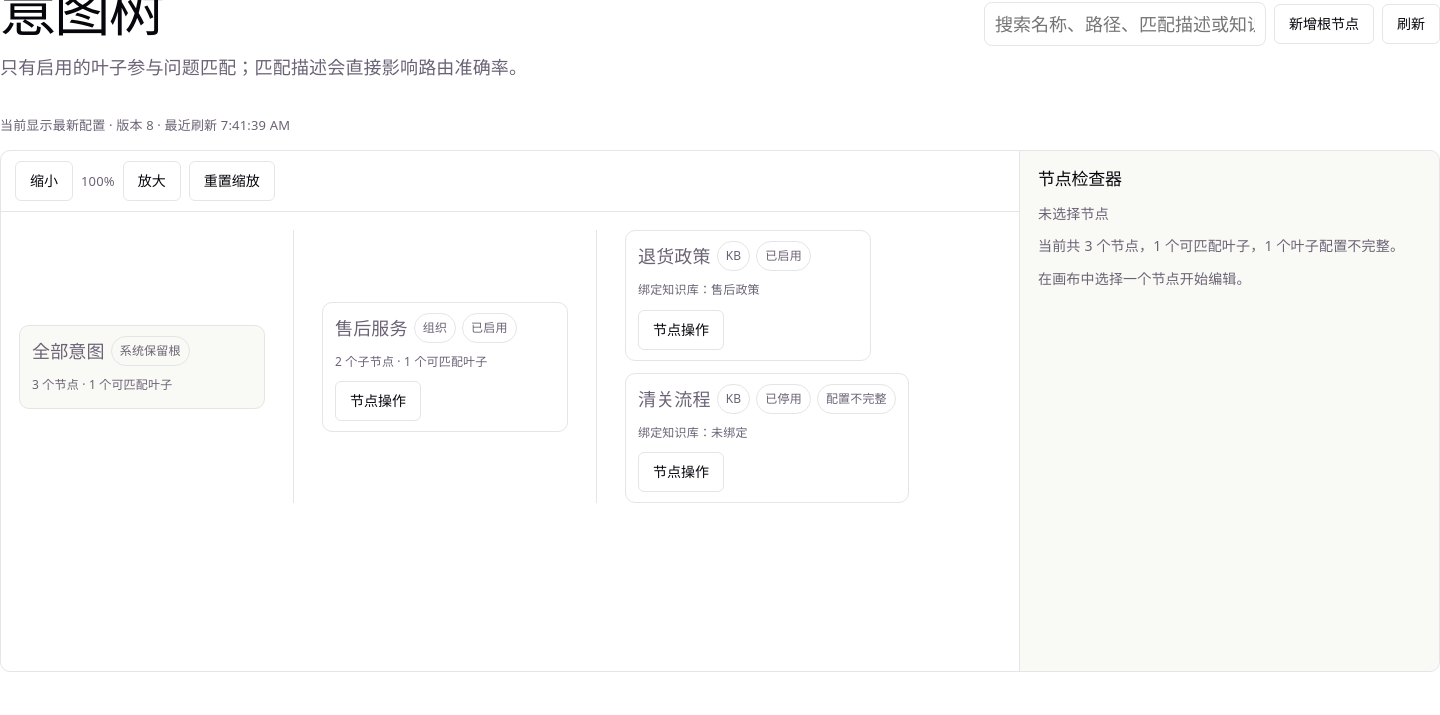
意图树 C — 画布与检查器 › 加载完整快照后按角色与状态标签展示节点，选中后检查器显示完整路径
Expected: the list item with aria-label "售后服务 · 组织 · 已启用" is shown, [322,230,909,503]
Expected: the list item with aria-label "清关流程 · KB · 已停用" is shown, [625,373,909,503]
Click the list item with aria-label "退货政策 · KB · 已启用": (767, 296) [625,230,909,361]
(page scrolled)
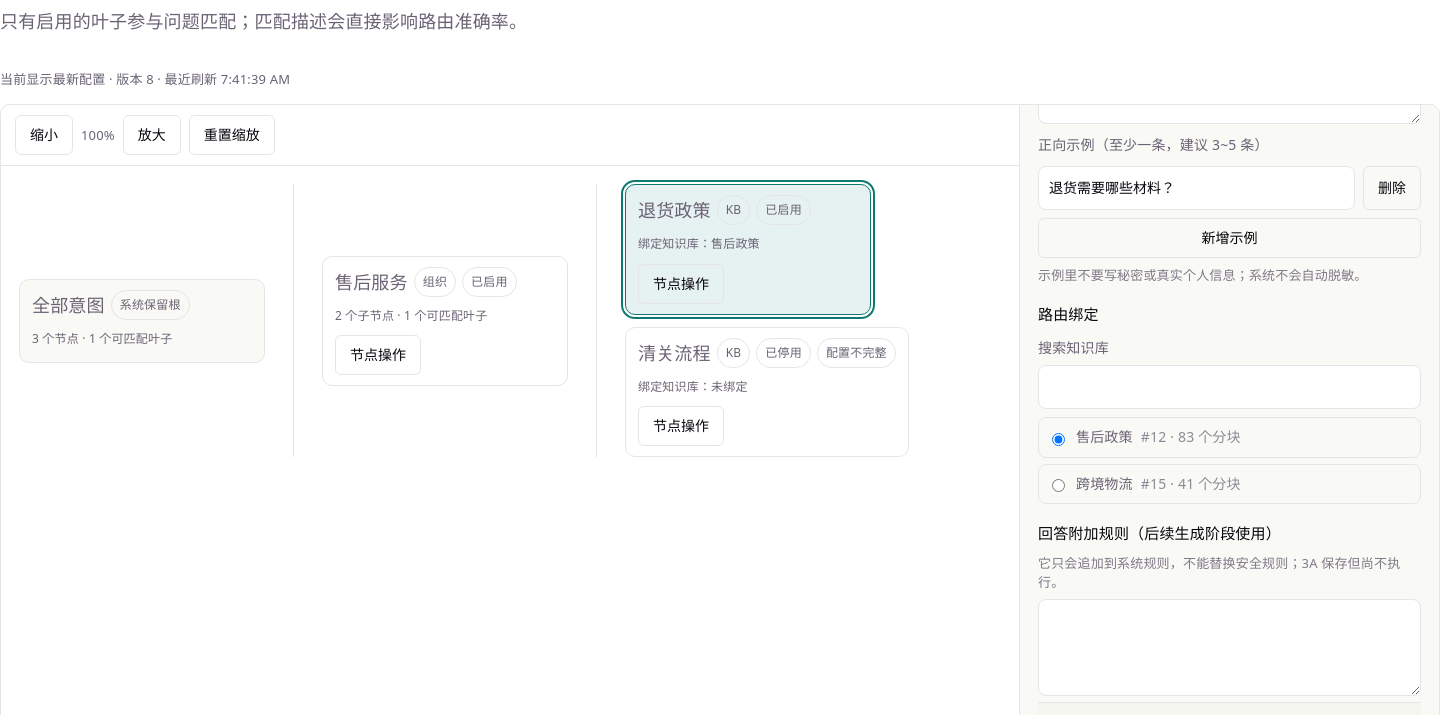
Expected: the field named "正向示例 1" holds "退货需要哪些材料？", [1038,166,1355,210]
Expected: the radio button labelled "售后政策 #12 · 83 个分块" is checked, [1052,432,1065,446]
